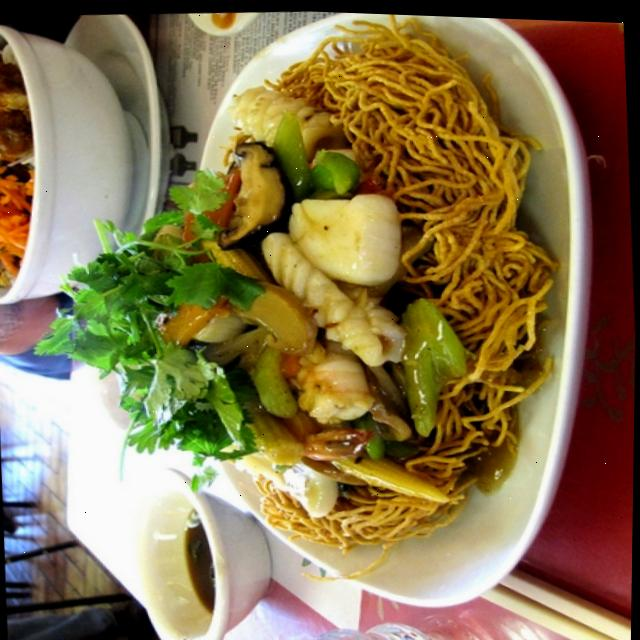面条主食: (131, 5, 582, 567)
